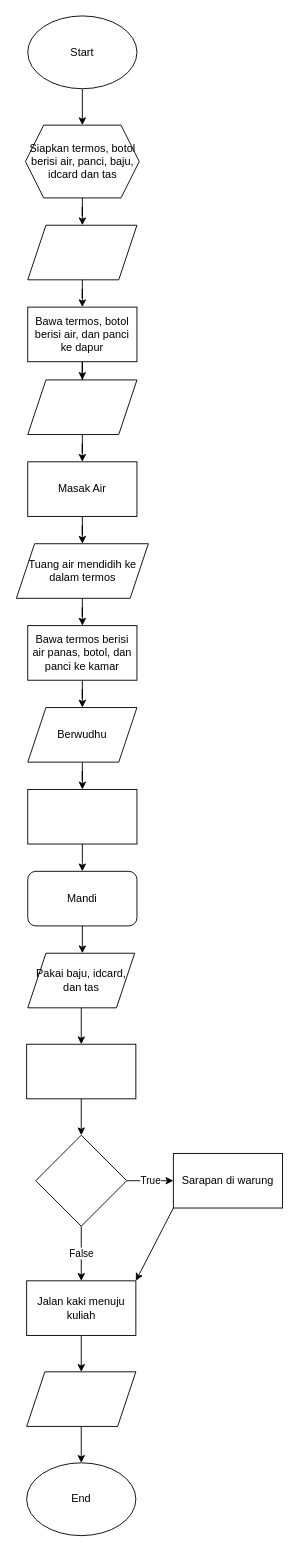
Image size: 298x1552. Some labels were removed from this diagram. The centre of each missing label's shape, as x and y in pixels:
"1 jam sebelum kuliah dimulai" goes at (x=81, y=1180).
"Bangun tidur" goes at (x=82, y=252).
"Kunci pintu dari luar" goes at (x=81, y=1071).
"Masukkan air ke dalam panci" goes at (x=82, y=407).
"Sampai di kuliah" goes at (x=81, y=1398).
"Sholat subuh" goes at (x=82, y=816).
